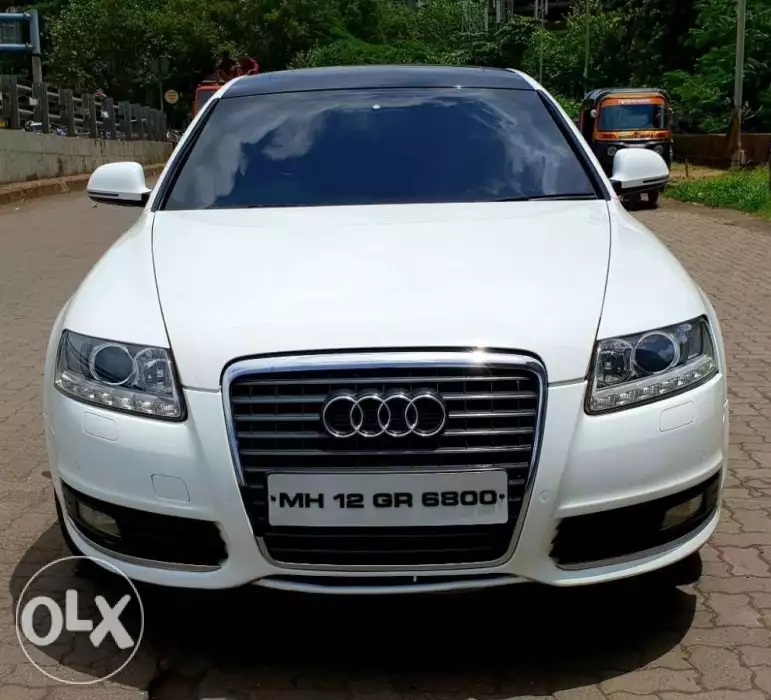licenseplate: (265, 470, 512, 528)
